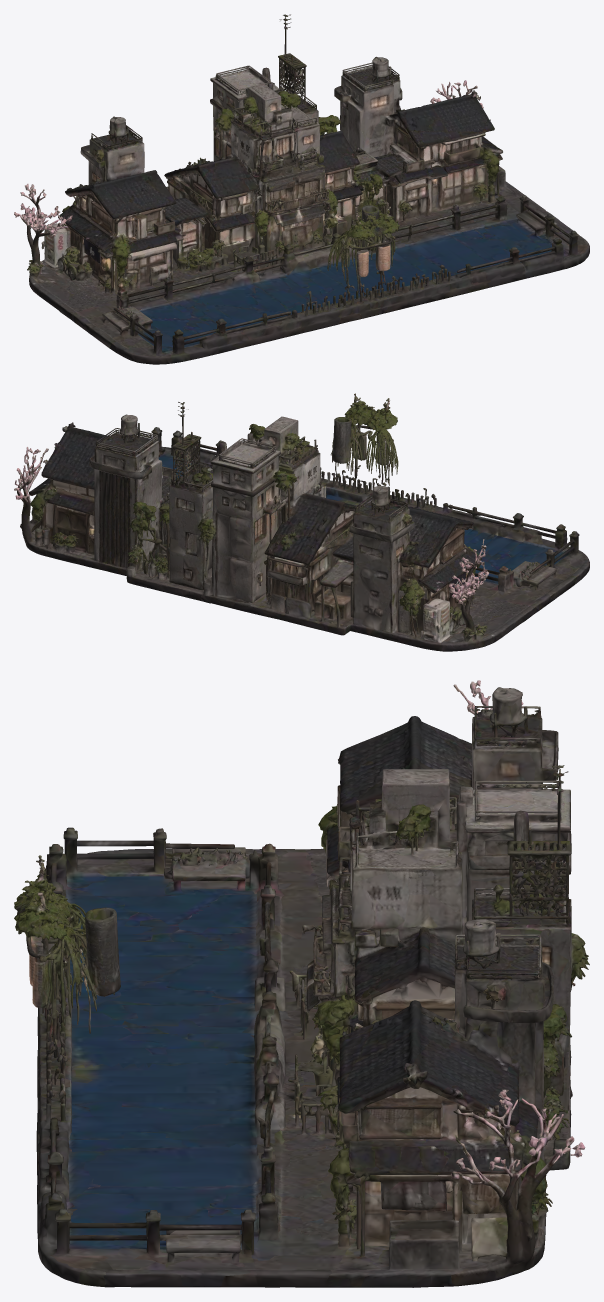
Rendered from tokyocanal-web.glb.
3 views of the same model, one above another, from view 1: azimuth 30°, elevation 25°; view 2: azimuth 150°, elevation 25°; view 3: azimuth 270°, elevation 25° (orthographic). The views are drawn at different scales.
Size of the model in its own units: 1.84 by 0.7163 by 1.05.
1 material, 1 textured.
